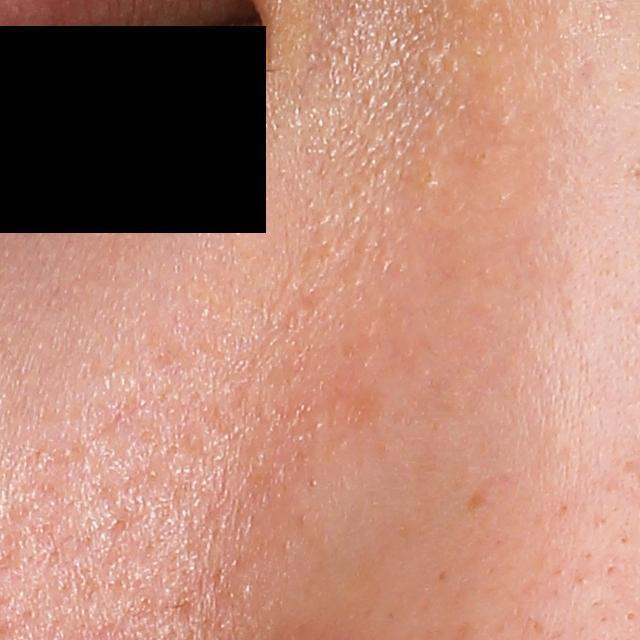comedo: (418, 167, 439, 187), (473, 148, 492, 165)
melasma: (464, 484, 493, 517)
